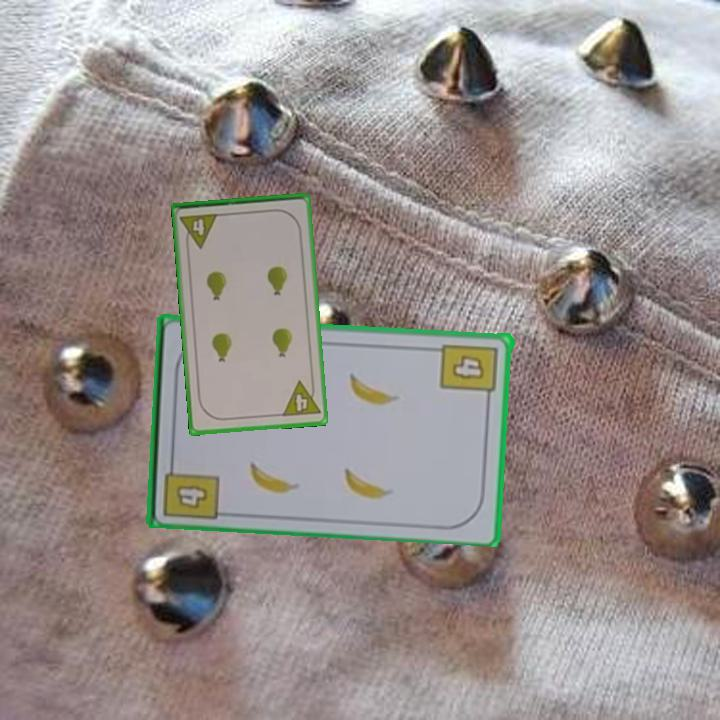4b: (438, 340, 501, 405), (173, 480, 212, 512)
4p: (279, 377, 323, 420), (177, 210, 221, 251)
